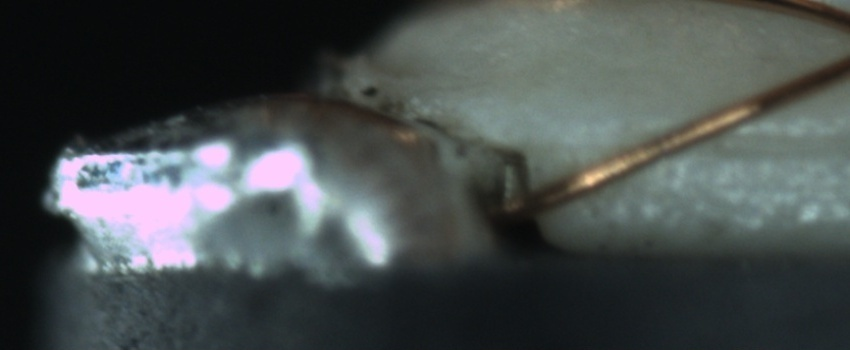DL: (613, 102, 842, 181)
